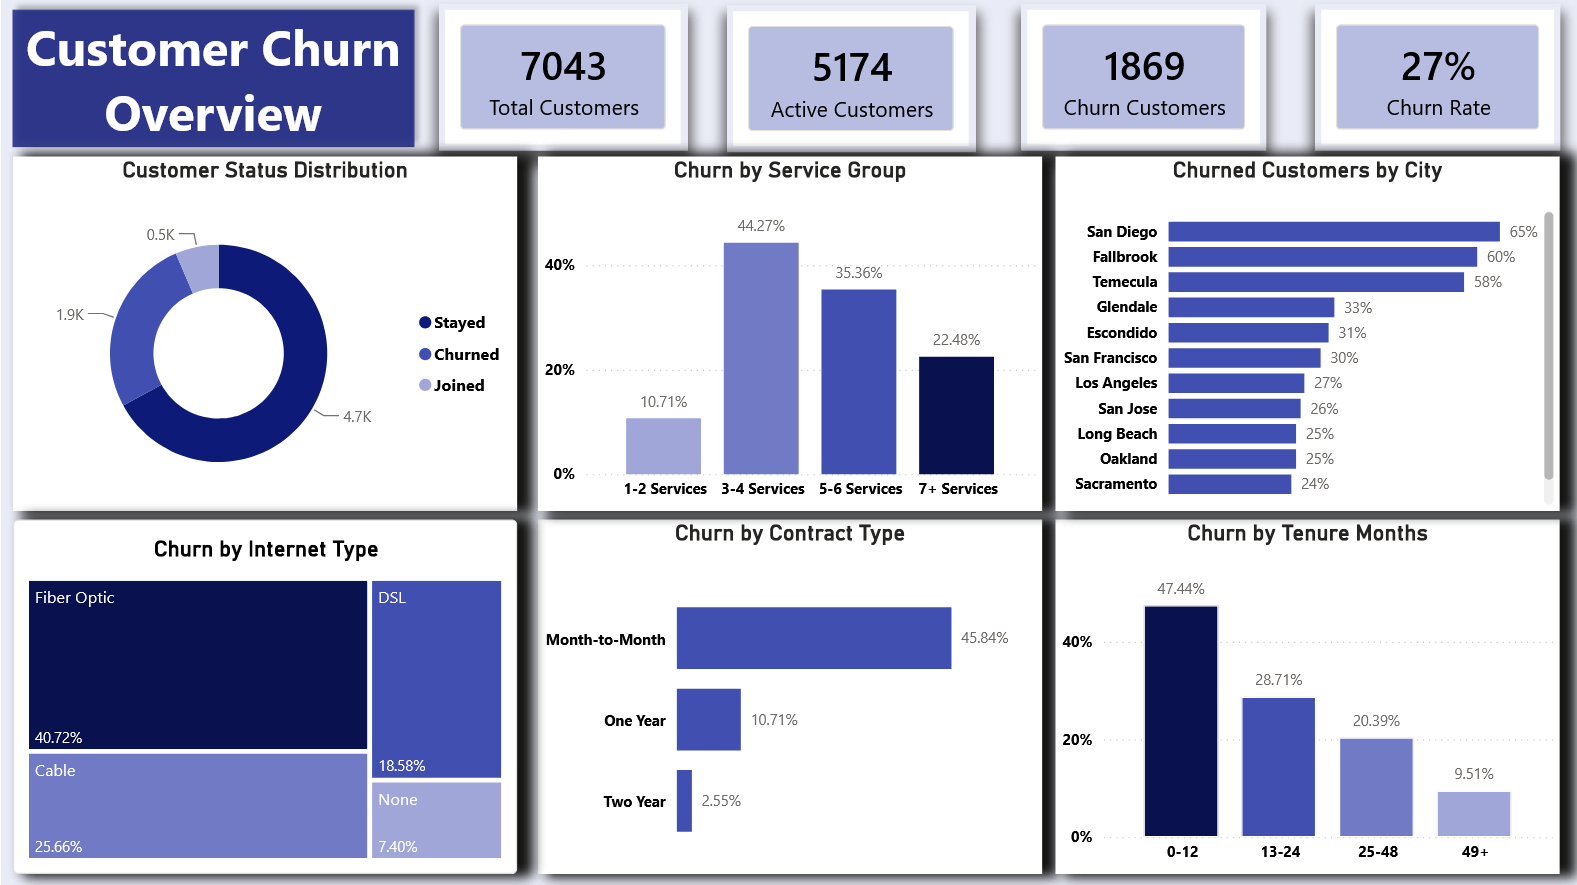

What the dashboard file says about the page in this screenshot:
{"tool":"powerbi","page":{"name":"Page 1","canvas":[1280,720],"ordinal":0},"visuals":[{"type":"shape","box":[0,2.5,346.2,130],"z":0},{"type":"cardVisual","fields":{"Data":["Sum(telco_customer_churn telco_customer_churn_status.churn_value)"]},"box":[831.2,6.2,200,120],"z":1000},{"type":"cardVisual","fields":{"Data":["Count(telco_customer_churn telco_customer_churn_demographics.customer_id)"]},"box":[357.5,6.2,202.5,120],"z":2000},{"type":"cardVisual","fields":{"Data":["telco_customer_churn telco_customer_churn_status.Churn Rate"]},"box":[1071.2,6.2,200,120],"z":3000},{"type":"cardVisual","fields":{"Data":["telco_customer_churn telco_customer_churn_status.Active Customers"]},"box":[591.2,7.5,202.5,120],"z":4000},{"type":"clusteredBarChart","title":"Churn by Contract Type","fields":{"Category":["telco_customer_churn telco_customer_churn_services.contract"],"Y":["telco_customer_churn telco_customer_churn_status.Churn Rate"]},"box":[437.5,426.2,411.2,288.8],"z":5000},{"type":"donutChart","title":"Customer Status Distribution","fields":{"Category":["telco_customer_churn telco_customer_churn_status.customer_status"],"Y":["CountNonNull(telco_customer_churn telco_customer_churn_status.churn_value)"]},"box":[10,131.2,411.2,288.8],"z":6000},{"type":"clusteredColumnChart","title":"Churn by Tenure Months","fields":{"Category":["telco_customer_churn telco_customer_churn_services.tenure_group"],"Y":["telco_customer_churn telco_customer_churn_status.Churn Rate"]},"box":[859.7,426.8,411.2,288.8],"z":7000},{"type":"treemap","title":"Churn by Internet Type","fields":{"Group":["telco_customer_churn telco_customer_churn_services.internet_type"],"Values":["telco_customer_churn telco_customer_churn_status.Churn Rate"]},"box":[10,426.2,411.2,288.8],"z":8000},{"type":"clusteredColumnChart","title":"Churn by Service Group","fields":{"Category":["Customer_Service_Count.Service Group"],"Y":["telco_customer_churn telco_customer_churn_status.Churn Rate"]},"box":[437.5,131.2,411.2,288.8],"z":9000},{"type":"clusteredBarChart","title":"Churned Customers by City","fields":{"Category":["telco_customer_churn telco_customer_churn_location.city"],"Y":["telco_customer_churn telco_customer_churn_status.Churn Rate"]},"box":[860,131.2,411.2,288.8],"z":10000}]}

Visuals, with their boxes in screenshot pixels (x1, y1, x2, y2), scaled from the page's 1280x720 canvas onto the 1577x885 screenshot:
shape: detection(0, 3, 427, 163)
cardVisual - Sum(telco_customer_churn telco_customer_churn_status.churn_value): detection(1024, 8, 1270, 155)
cardVisual - Count(telco_customer_churn telco_customer_churn_demographics.customer_id): detection(440, 8, 690, 155)
cardVisual - telco_customer_churn telco_customer_churn_status.Churn Rate: detection(1320, 8, 1566, 155)
cardVisual - telco_customer_churn telco_customer_churn_status.Active Customers: detection(728, 9, 978, 157)
"Churn by Contract Type" clusteredBarChart: detection(539, 524, 1046, 879)
"Customer Status Distribution" donutChart: detection(12, 161, 519, 516)
"Churn by Tenure Months" clusteredColumnChart: detection(1059, 525, 1566, 880)
"Churn by Internet Type" treemap: detection(12, 524, 519, 879)
"Churn by Service Group" clusteredColumnChart: detection(539, 161, 1046, 516)
"Churned Customers by City" clusteredBarChart: detection(1060, 161, 1566, 516)
